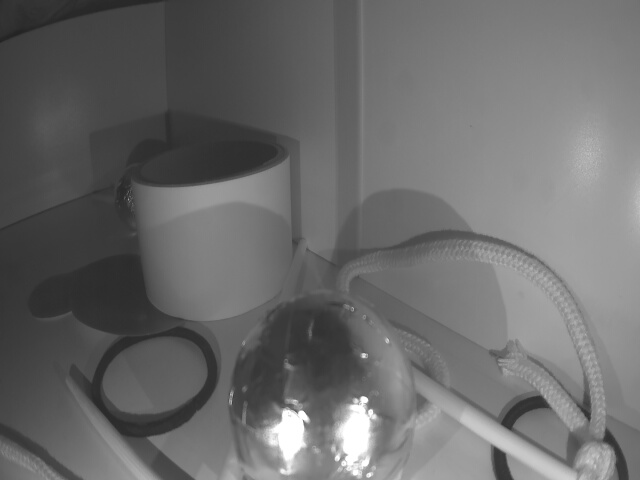Live: (232, 296, 418, 480)
